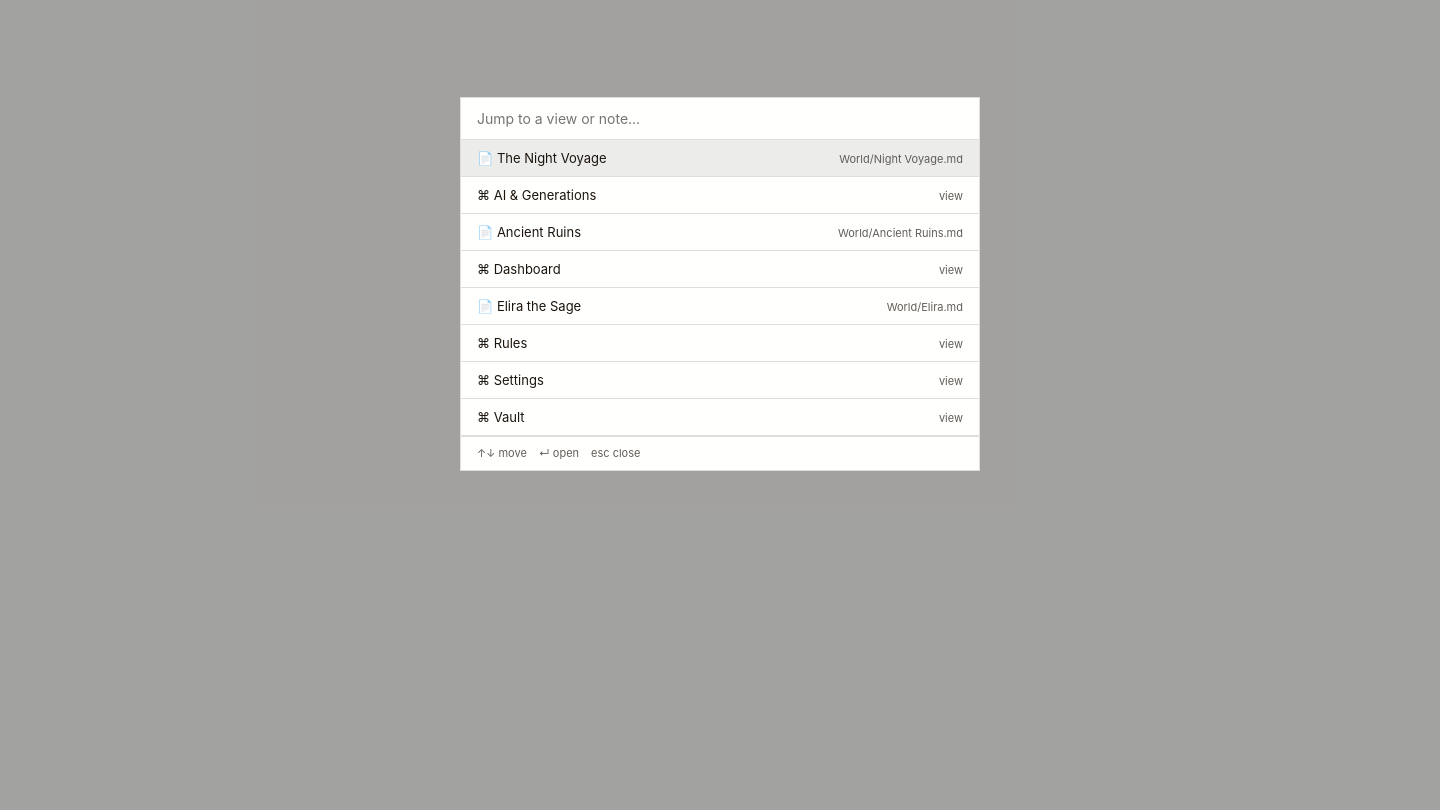
Scenario: CommandPalette › shows the empty state for a nonsense query
Step 1. Type "qqqqzzzz" into the field named "Palette query" → [720, 119], box [461, 98, 979, 140]
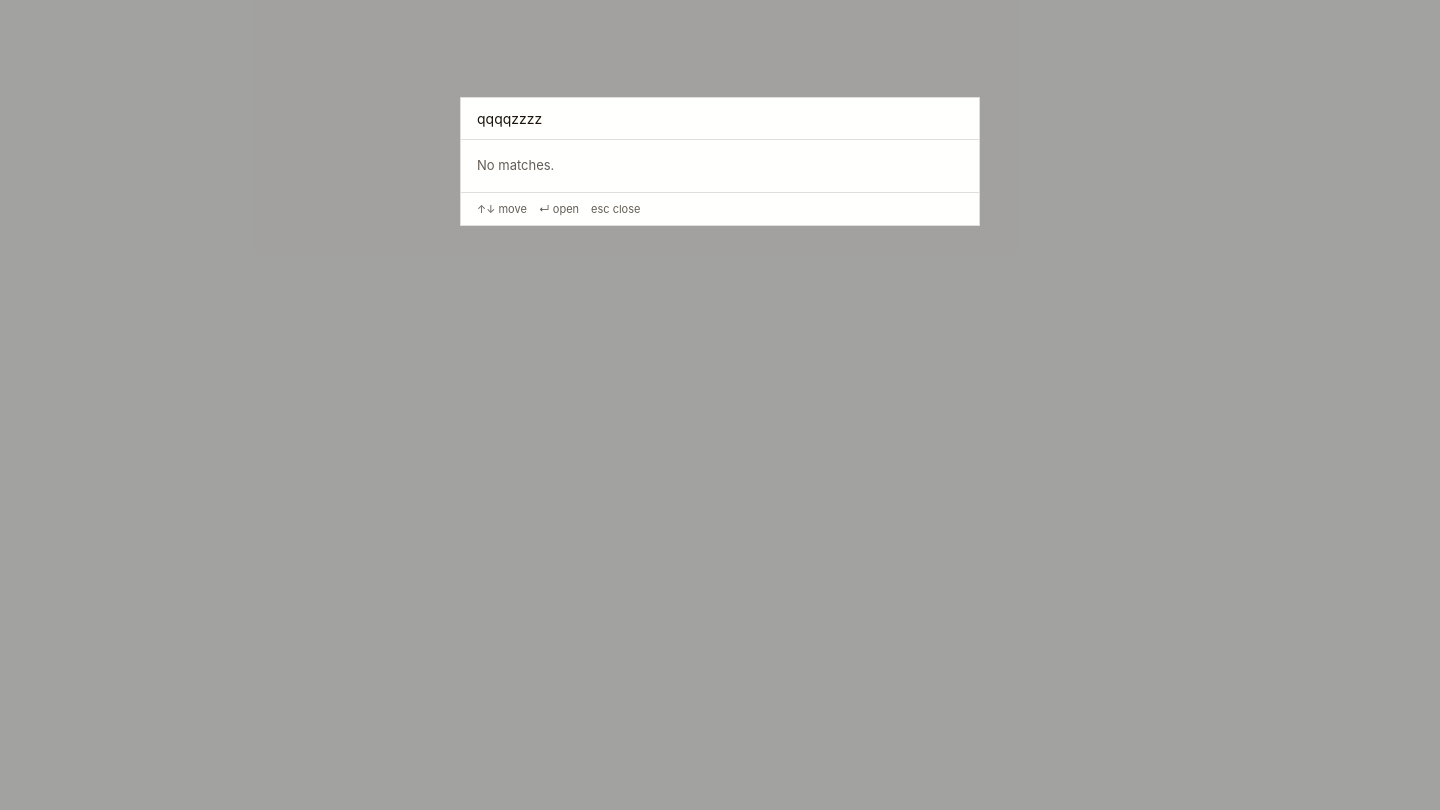
Now the text "No matches." is shown, box [477, 157, 554, 173]
